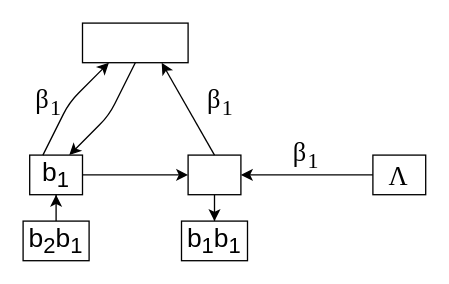
Some shapes in this 449 by 284 pixel diagram are drawn without their labels. Each missing label, with the centre of its shape:
"b 2" goes at (x=214, y=174).
"b 3 b 2 b 1" goes at (x=134, y=42).
